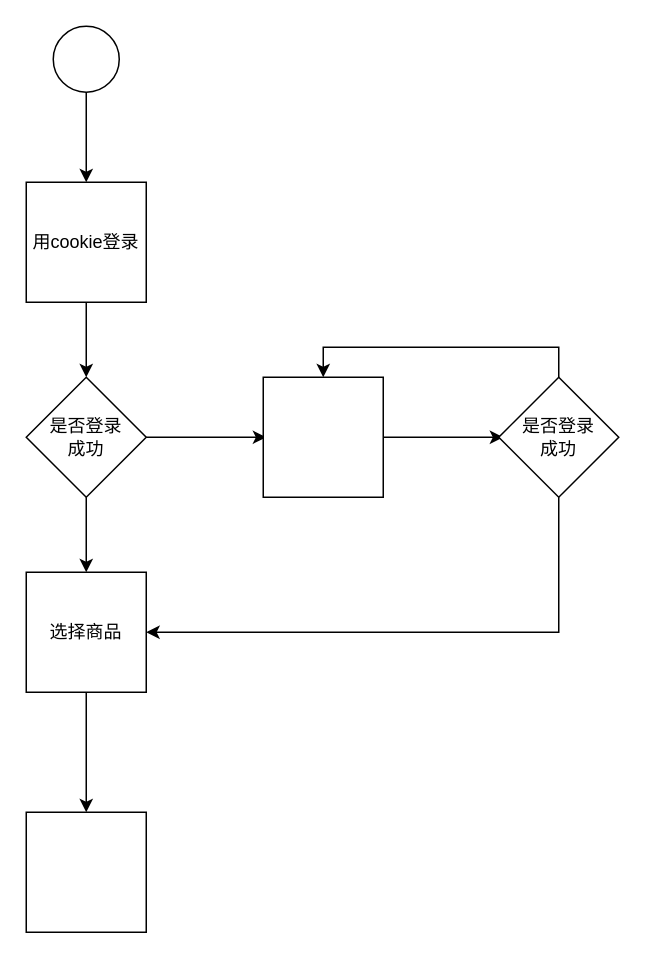
This 645x959 diagram has some shape labels left out. Here are the shapes that lost their labels. From the top down, the box of each, then its label:
(262, 376, 383, 497): 扫二维码登录
(25, 811, 146, 932): 加购物车购买
